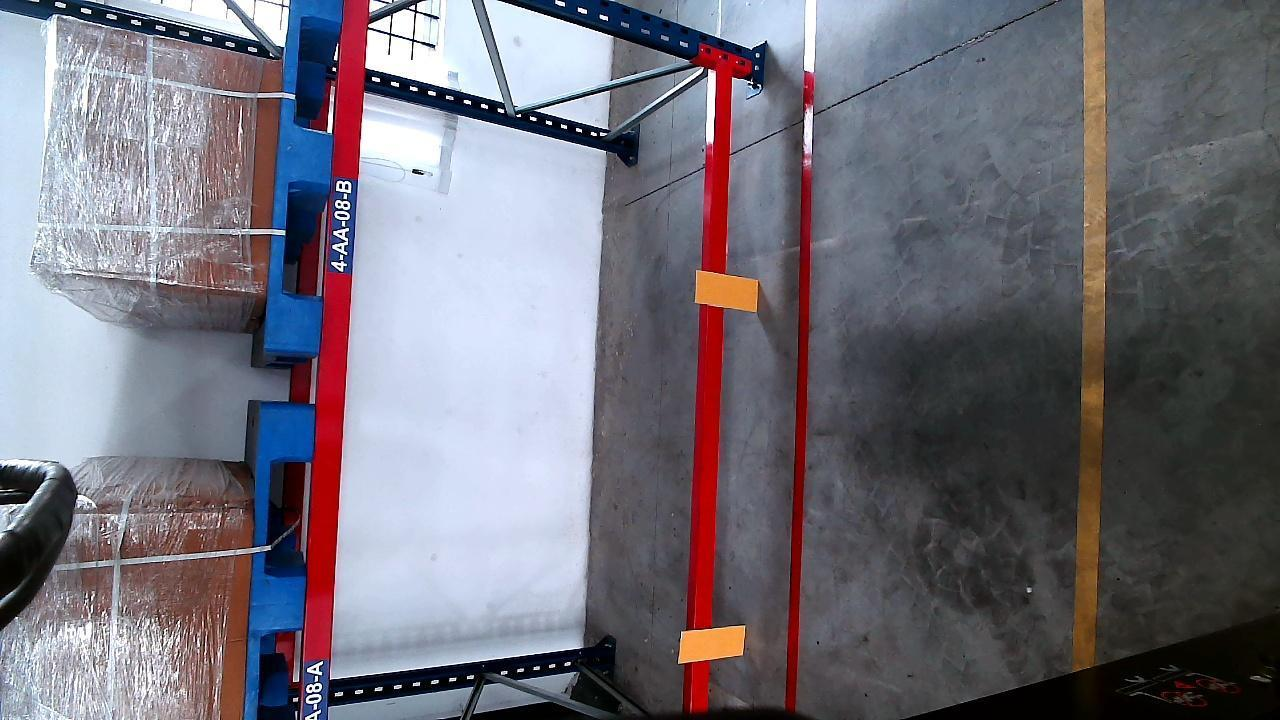h_rack: (301, 0, 368, 720), (690, 66, 731, 720)
orange_strip: (678, 625, 747, 662), (697, 272, 761, 309)
red_line: (779, 68, 818, 710)
small_pallet: (267, 1, 344, 356), (246, 411, 315, 717)
yellow_line: (1077, 6, 1110, 671)
